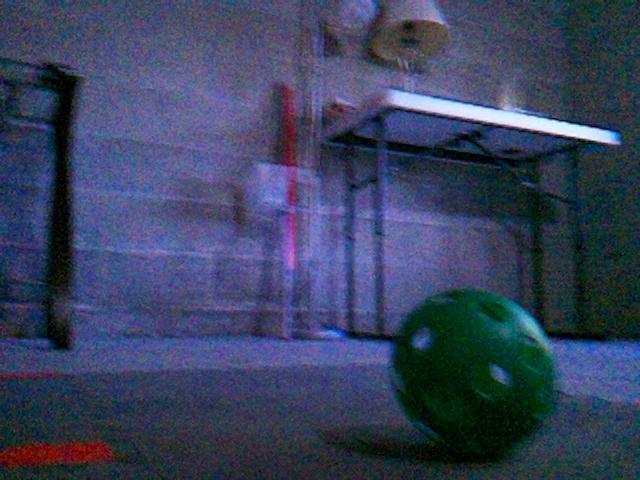Green: (387, 284, 556, 457)
